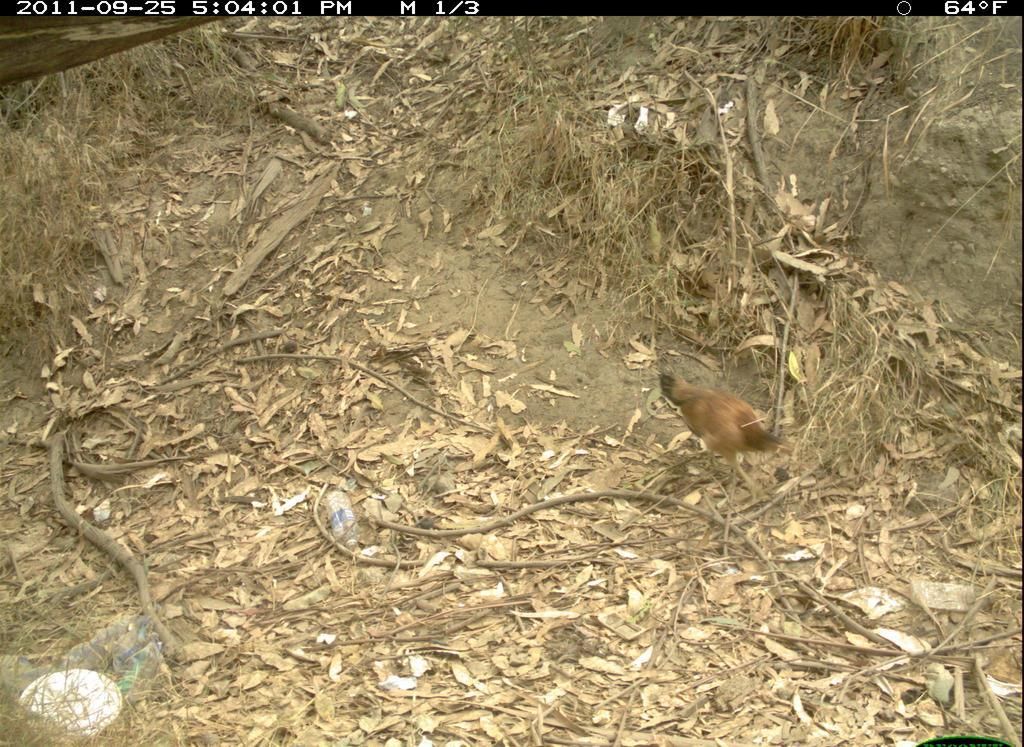bird: (653, 364, 793, 513)
